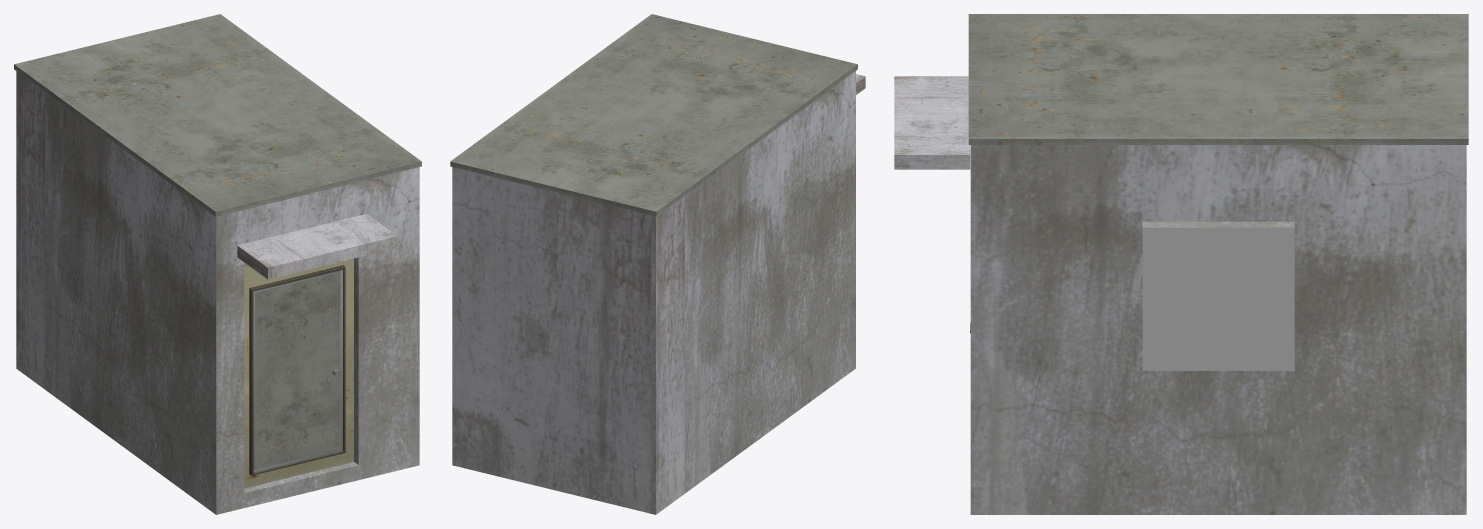
Rendered from rooftopexit_01.fbx.
3 renders of one model, left to right at view 1: azimuth 30°, elevation 25°; view 2: azimuth 150°, elevation 25°; view 3: azimuth 270°, elevation 25°, orthographic. The views are drawn at different scales.
Parts seen in each view (by area): view 1: rooftopexit_01; view 2: rooftopexit_01; view 3: rooftopexit_01.
Part boxes in pixels (<box>): rooftopexit_01: <box>14,14,421,514</box>; rooftopexit_01: <box>450,14,865,514</box>; rooftopexit_01: <box>894,14,1468,514</box>.
Bounding box in the file's own units: 275 × 372 × 513.
